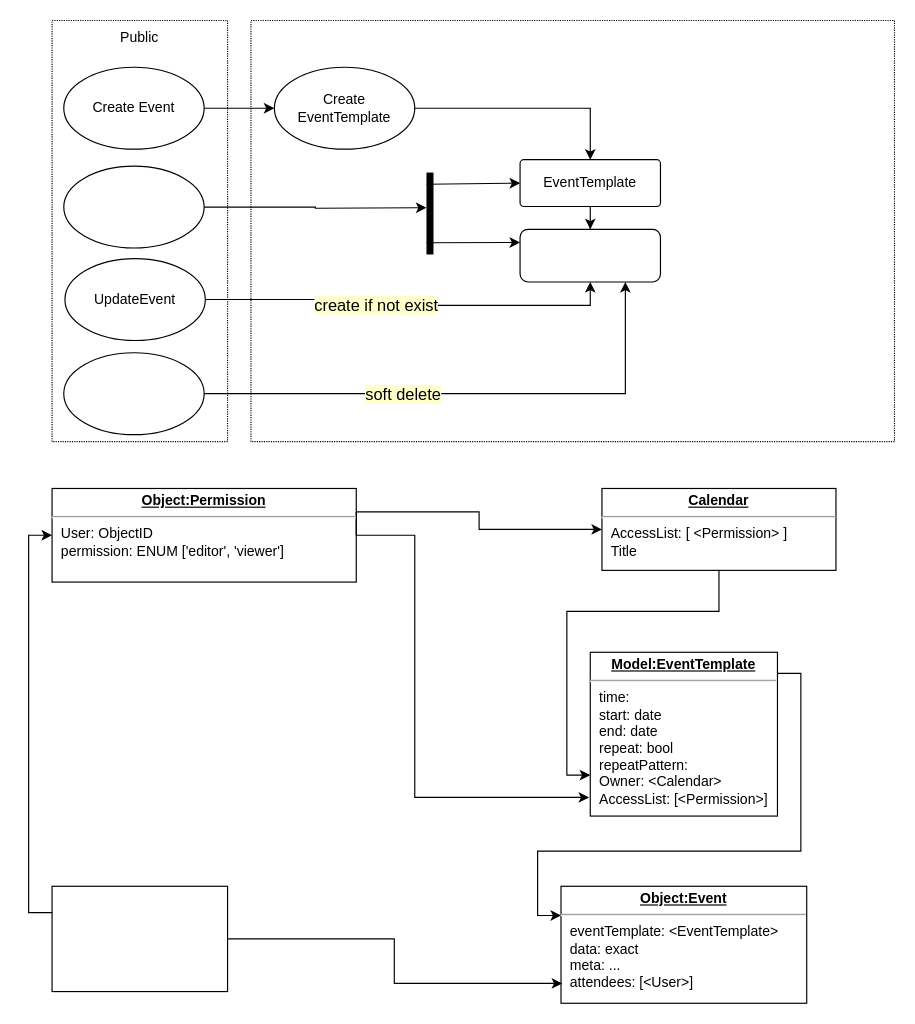
Image size: 915x1024. Some labels were removed from this diagram. Here are the shapes that lost their labels. From the top down, the centre of each, then its label:
the point at 133,206: GetListEvent
the point at 589,255: Event
the point at 133,393: DeleteEvent
the point at 139,938: Object:User ...
